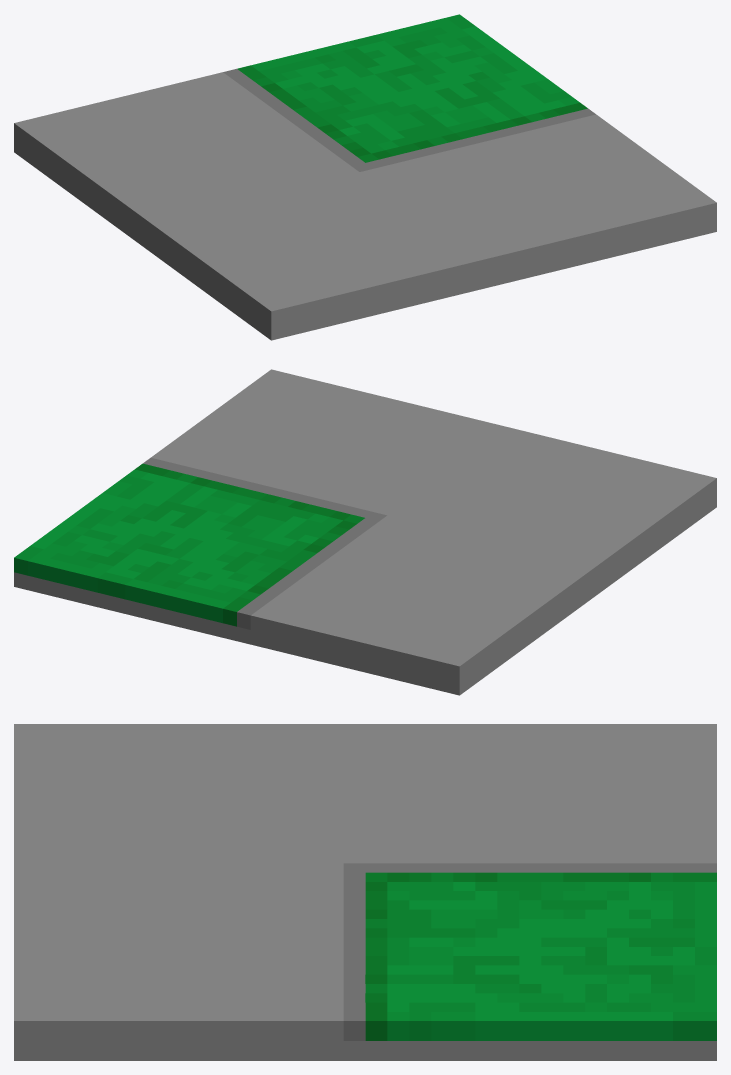
Rendered from forest-city-edgy-edge-outer-1.gltf.
3 renders of one model, top to bottom at view 1: azimuth 30°, elevation 25°; view 2: azimuth 150°, elevation 25°; view 3: azimuth 270°, elevation 25°, orthographic. The views are drawn at different scales.
Parts seen in each view (by area): view 1: forest-city-edgy-edge-outer-1; view 2: forest-city-edgy-edge-outer-1; view 3: forest-city-edgy-edge-outer-1.
Boxes of the visible parts, x1=… form: forest-city-edgy-edge-outer-1: x1=14, y1=14, x2=716, y2=340; forest-city-edgy-edge-outer-1: x1=14, y1=369, x2=716, y2=695; forest-city-edgy-edge-outer-1: x1=14, y1=724, x2=716, y2=1060.
Size of the model in its own units: 3.2 by 0.2 by 3.2.
1 material, 1 textured.
